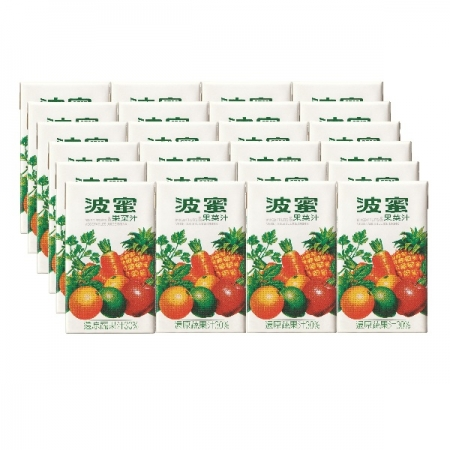vegetables juice: (334, 184, 433, 336), (239, 179, 338, 331), (152, 180, 251, 332), (58, 180, 157, 332)
